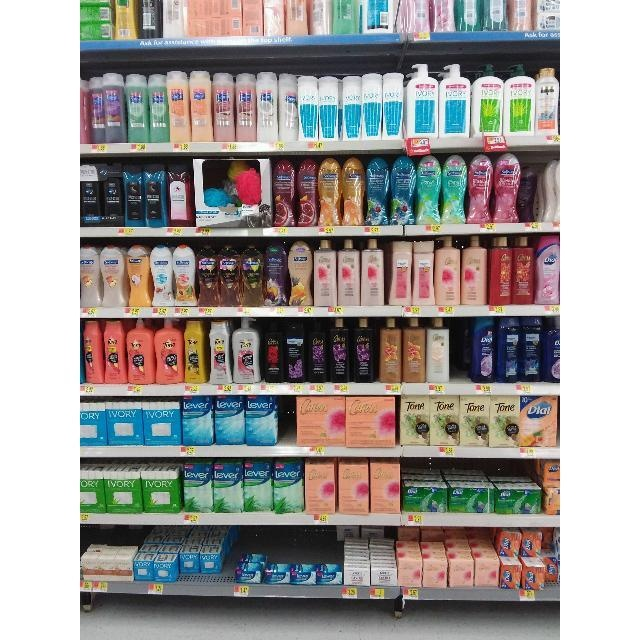empty: (449, 317, 470, 385), (279, 394, 296, 447), (222, 525, 236, 584)
front: (179, 574, 221, 583), (544, 581, 559, 588)
